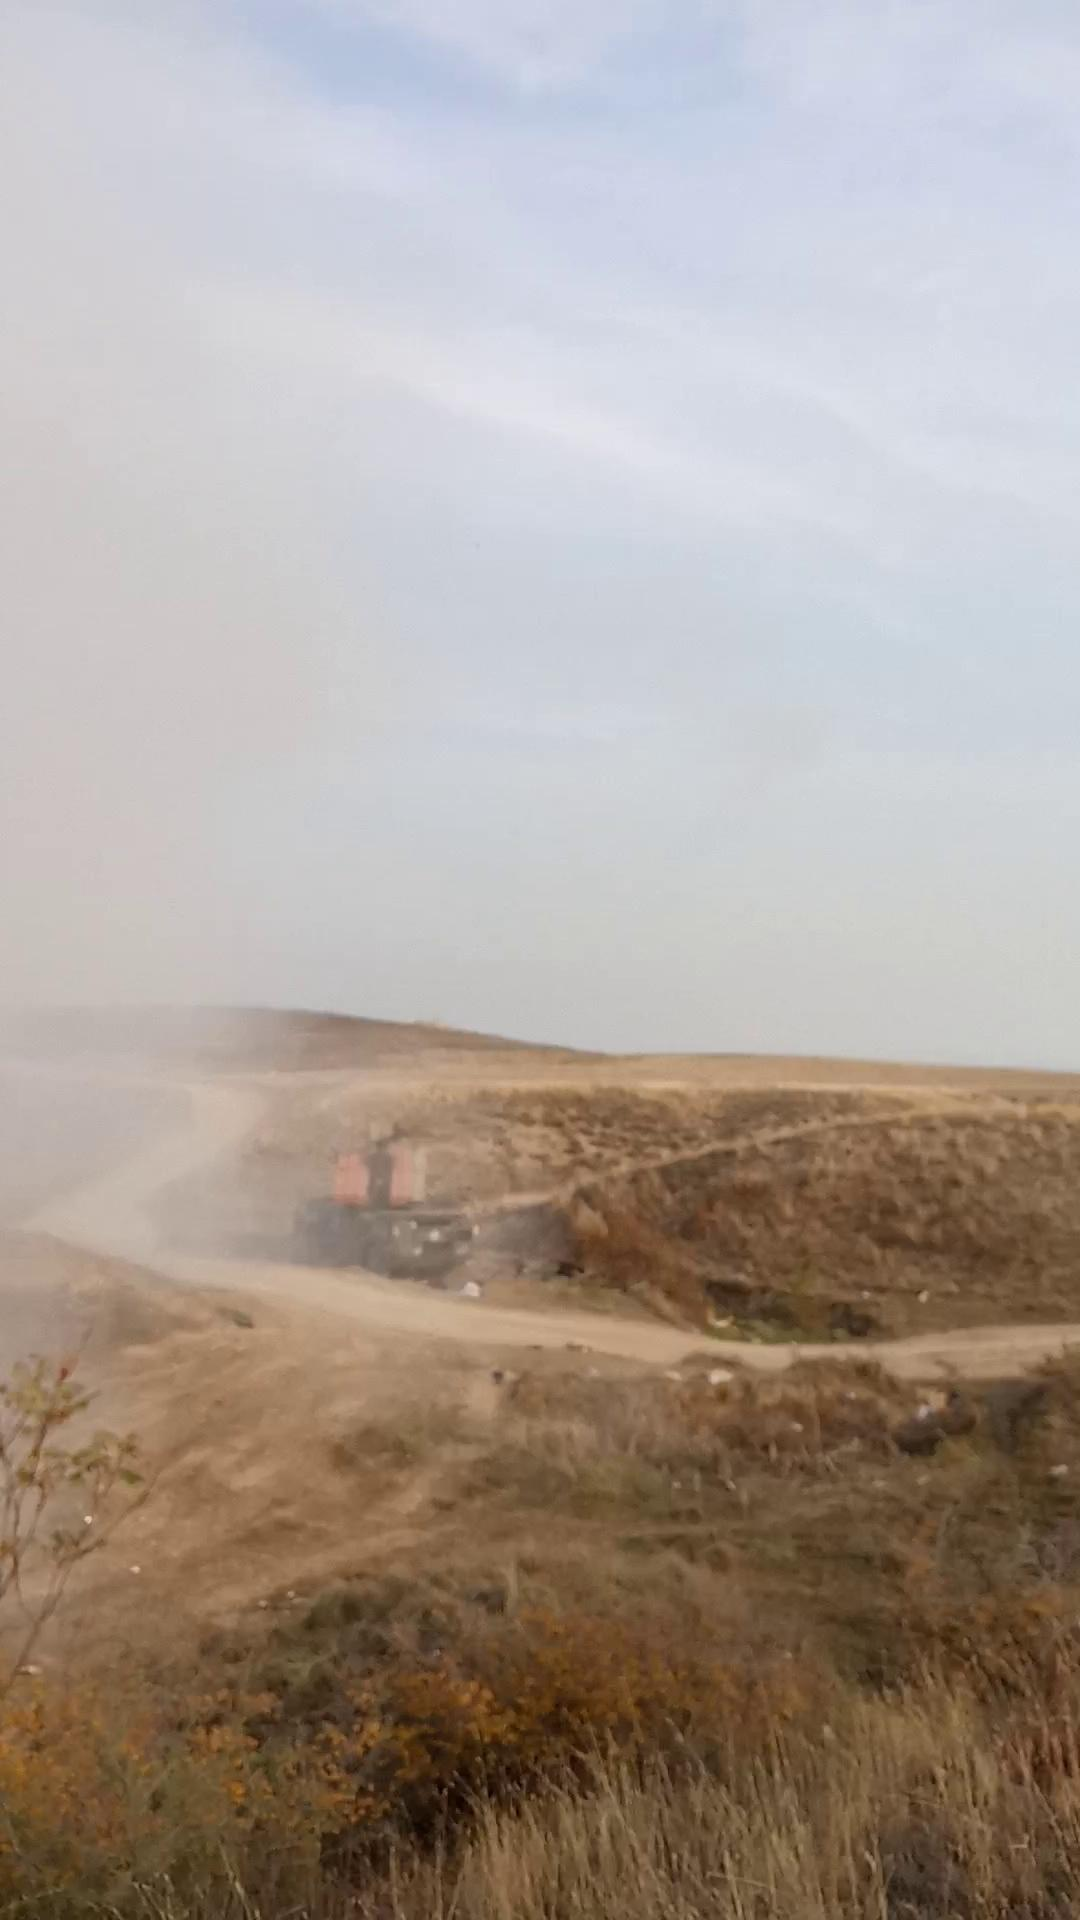MIL_SAM_TEL: (284, 1120, 485, 1290)
